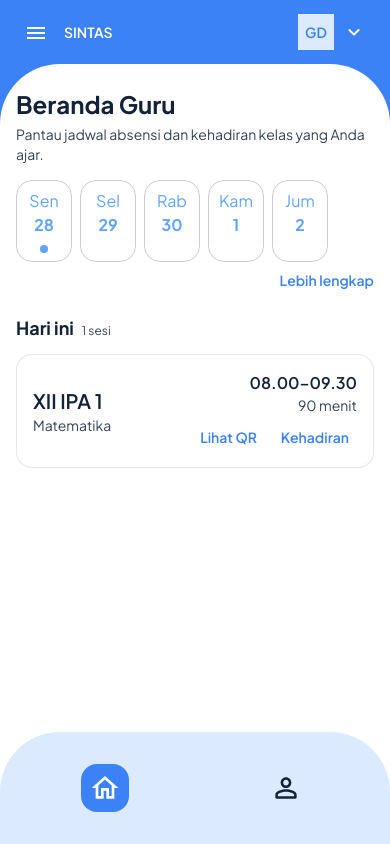
Test: beranda guru › kembali ke tanggal hari ini lewat tombol "Hari ini"
The width and height of the screenshot is (390, 844).
Click the button with aria-label "Senin, 28 September 2026": (44, 221) [16,180,72,262]
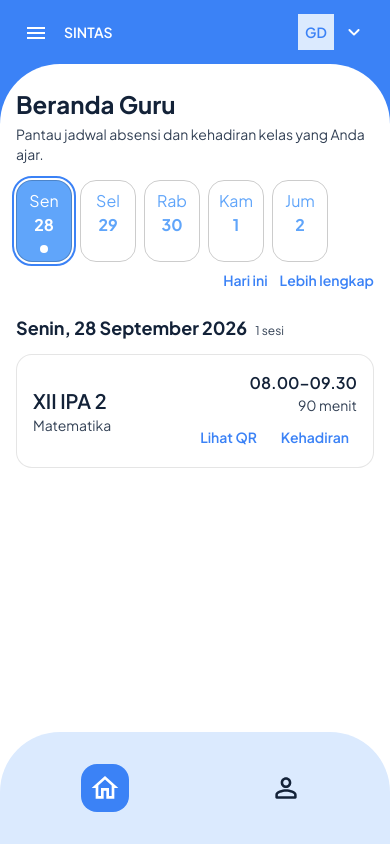
Click the button "Hari ini": (245, 280) [223,270,268,290]
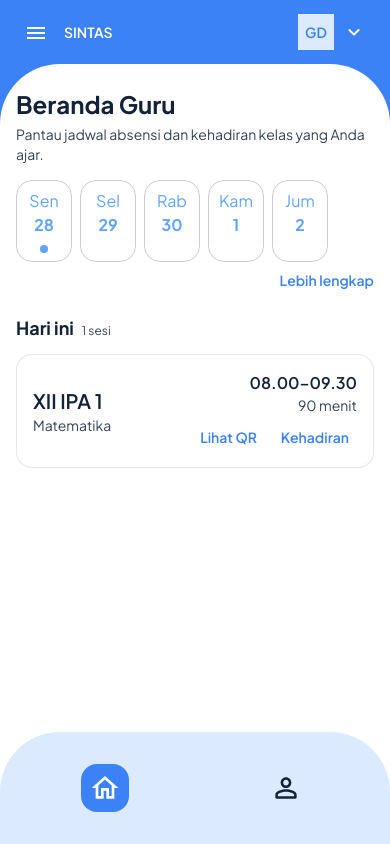
expect the text "XII IPA 1" is shown: met, box [33,387,111,415]
